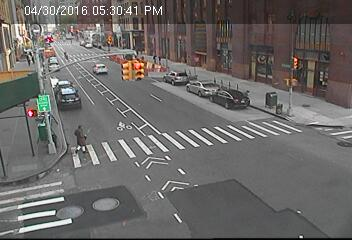neg: (218, 121, 244, 156), (105, 189, 126, 217), (307, 119, 328, 146), (195, 76, 215, 102), (278, 61, 297, 87), (220, 184, 239, 210), (224, 46, 243, 71), (61, 78, 80, 102), (280, 193, 299, 217), (12, 36, 30, 61), (311, 76, 329, 100), (260, 92, 278, 115), (190, 32, 207, 54), (130, 34, 146, 56), (119, 112, 134, 132), (42, 27, 57, 46), (159, 156, 172, 175), (28, 105, 41, 122), (58, 205, 70, 222), (80, 24, 92, 41)
pos: (65, 121, 89, 154)
